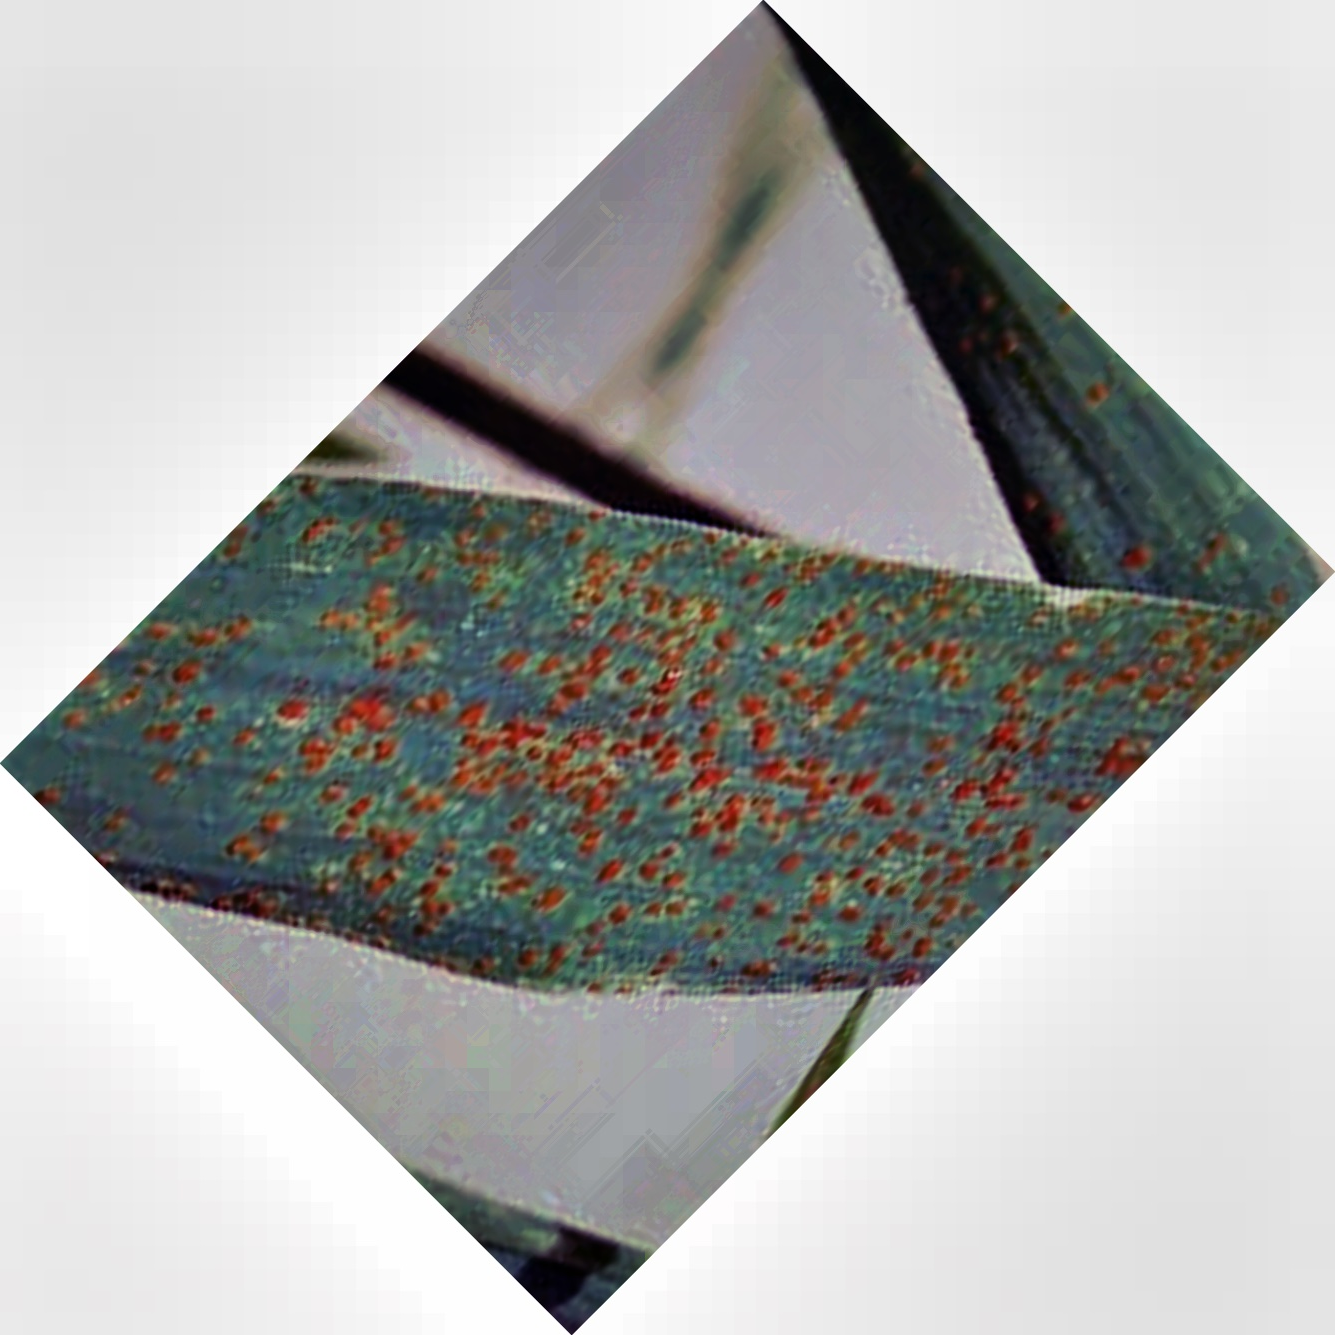Leaf Rust: (227, 551, 1057, 1007)
